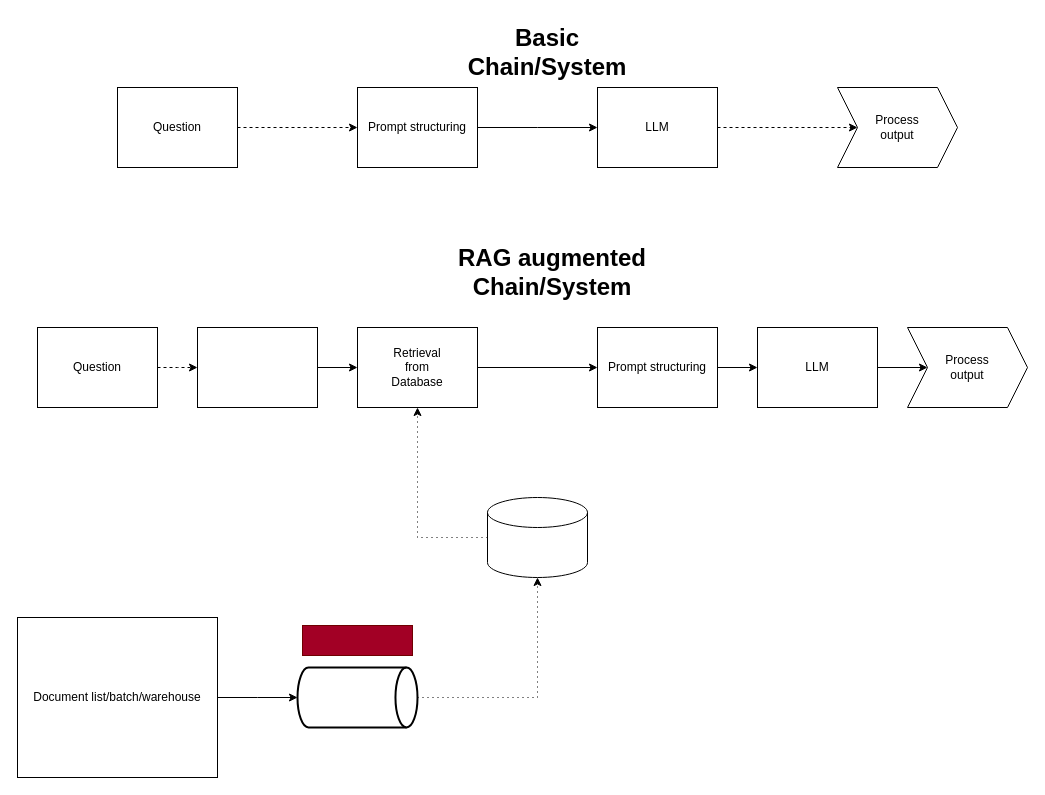
Image size: 1045x795. Some labels were removed from this diagram. The shapes that lost their labels are listed below. From the top down, each one's centre as x and y in pixels, then its label:
point 257,367: Question Embedding
point 537,537: Vector DB
point 357,640: Batch processed
point 357,697: Document Embedding
